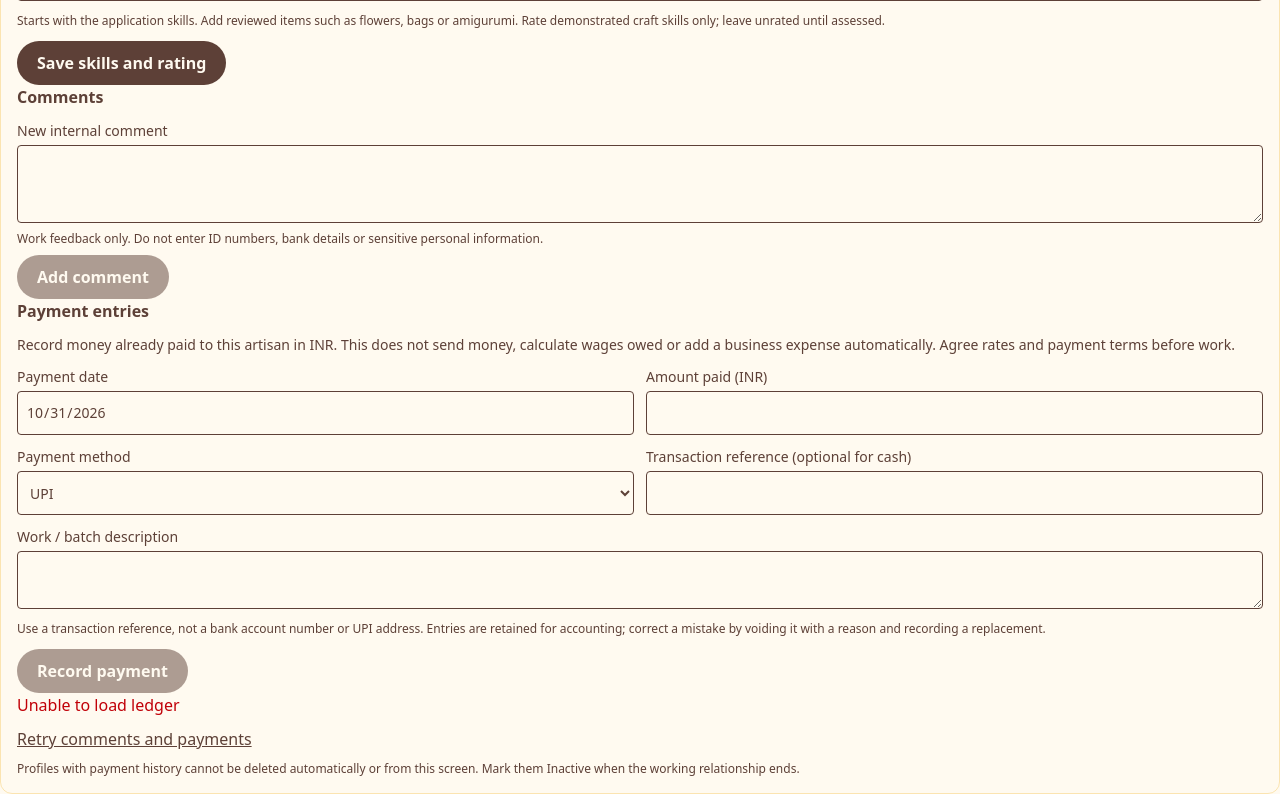
Scenario: surfaces activity errors and offers retry without an empty success state
The width and height of the screenshot is (1280, 794).
(page scrolled)
Expected: the text "Unable to load ledger" is shown, [17, 694, 180, 716]
Expected: the text "No payments recorded." is not shown
Click the button "Retry comments and payments".
click(134, 739)  # box [17, 717, 252, 761]
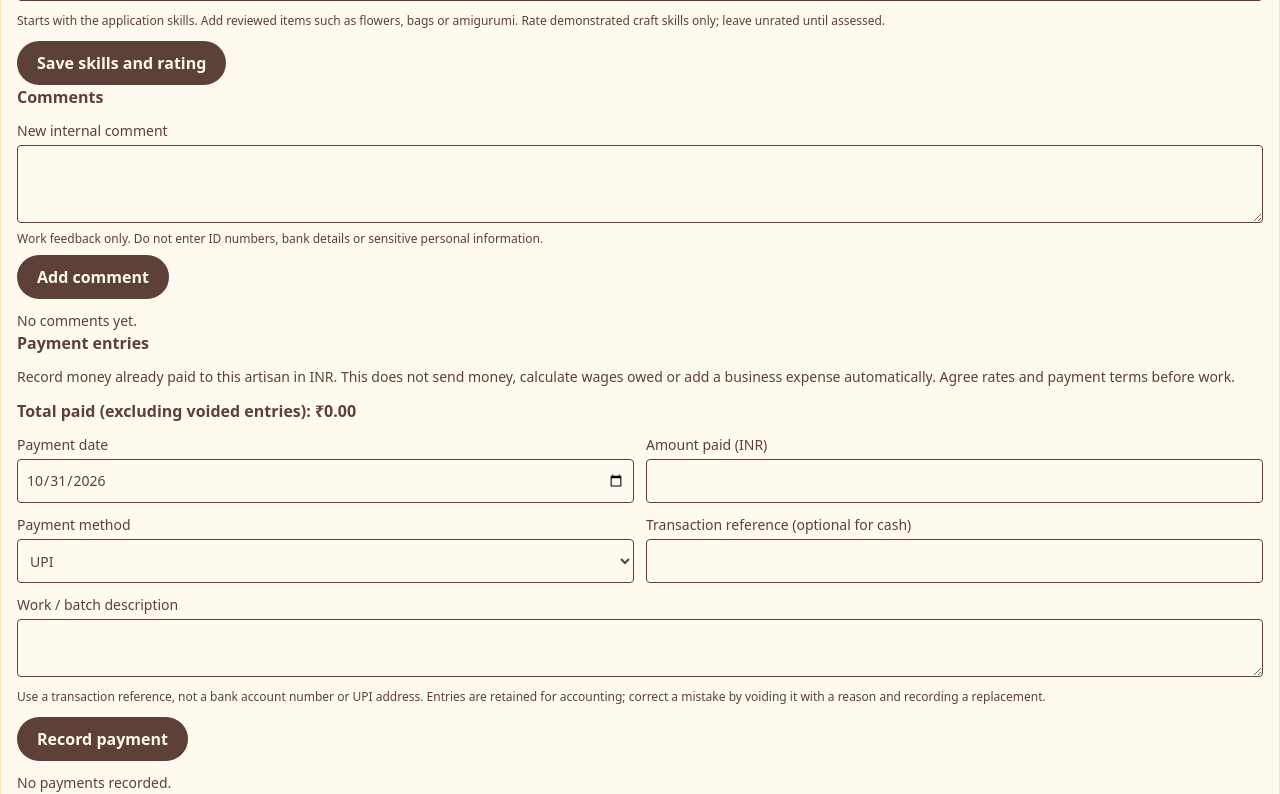
Expected: the text "No payments recorded." is shown, [17, 773, 171, 792]
